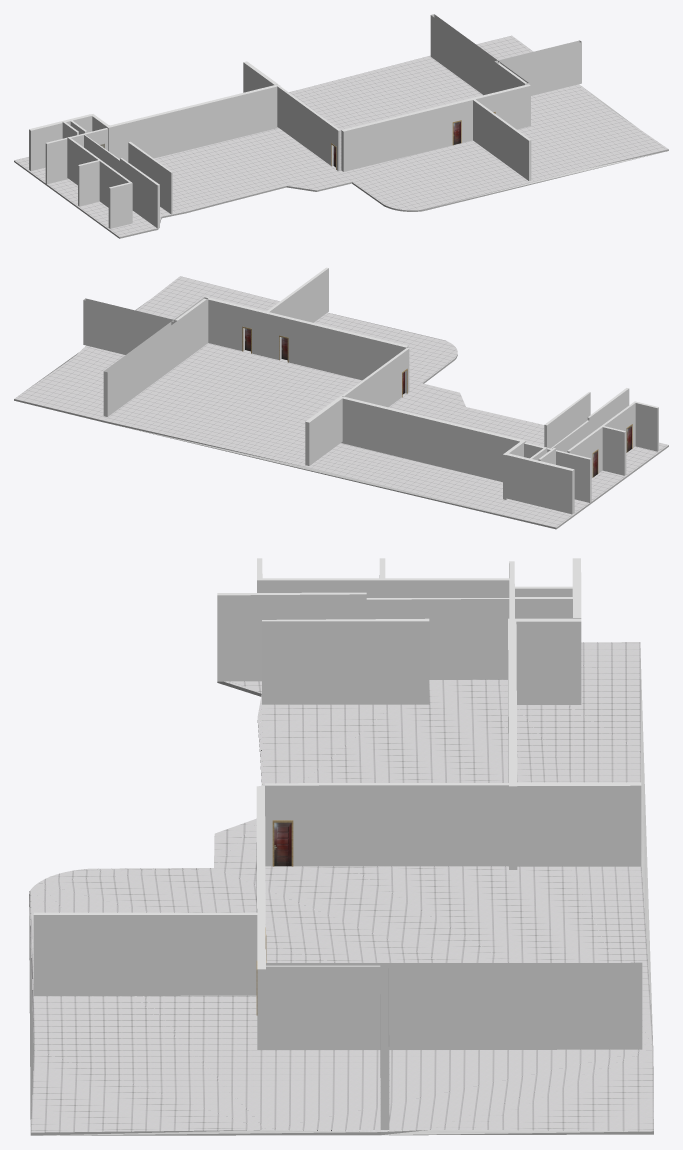
Rendered from floor1.DAE.
The picture shows the model from 3 angles, top to bottom: view 1: azimuth 30°, elevation 25°; view 2: azimuth 150°, elevation 25°; view 3: azimuth 270°, elevation 25°; orthographic projection. The views are drawn at different scales.
Parts seen in each view (by area): view 1: FBXASC049D, object033, object036, object031, object032, object025, object029, object030, object027, object024, object038, object023 (+3 smaller); view 2: FBXASC049D, object033, object036, object031, object032, object038, object025, object029, object035, object027, object024, object030 (+3 smaller); view 3: FBXASC049D, object031, object025, object029, object030, object023, object035, object034, object037, object027, object033, object036 (+2 smaller).
Boxes of the visible parts, left/top/right/bottom form: FBXASC049D: left=14, top=35, right=668, bottom=238; object033: left=341, top=84, right=530, bottom=171; object036: left=110, top=84, right=279, bottom=161; object031: left=430, top=14, right=528, bottom=95; object032: left=494, top=40, right=581, bottom=95; object025: left=277, top=85, right=340, bottom=171; object029: left=473, top=99, right=531, bottom=180; object030: left=84, top=134, right=159, bottom=228; object027: left=67, top=137, right=130, bottom=207; object024: left=45, top=128, right=107, bottom=184; object038: left=29, top=114, right=92, bottom=170; object023: left=128, top=141, right=172, bottom=214; FBXASC049D: left=14, top=276, right=668, bottom=529; object033: left=206, top=297, right=408, bottom=380; object036: left=339, top=396, right=521, bottom=482; object031: left=103, top=297, right=208, bottom=416; object032: left=83, top=298, right=177, bottom=366; object038: left=506, top=453, right=574, bottom=514; object025: left=342, top=348, right=409, bottom=407; object029: left=267, top=267, right=328, bottom=322; object035: left=305, top=397, right=342, bottom=465; object027: left=567, top=402, right=635, bottom=478; object024: left=524, top=442, right=591, bottom=502; object030: left=551, top=388, right=629, bottom=452; FBXASC049D: left=29, top=642, right=653, bottom=1135; object031: left=266, top=962, right=642, bottom=1049; object025: left=265, top=783, right=508, bottom=866; object029: left=33, top=912, right=257, bottom=995; object030: left=217, top=592, right=509, bottom=681; object023: left=262, top=618, right=429, bottom=704; object035: left=517, top=782, right=641, bottom=866; object034: left=266, top=965, right=380, bottom=1049; object037: left=508, top=618, right=581, bottom=704; object027: left=262, top=578, right=509, bottom=597; object033: left=256, top=786, right=265, bottom=1049; object036: left=508, top=621, right=517, bottom=869.
Bounding box in the file's own units: 50.1 × 4.27 × 26.95.
